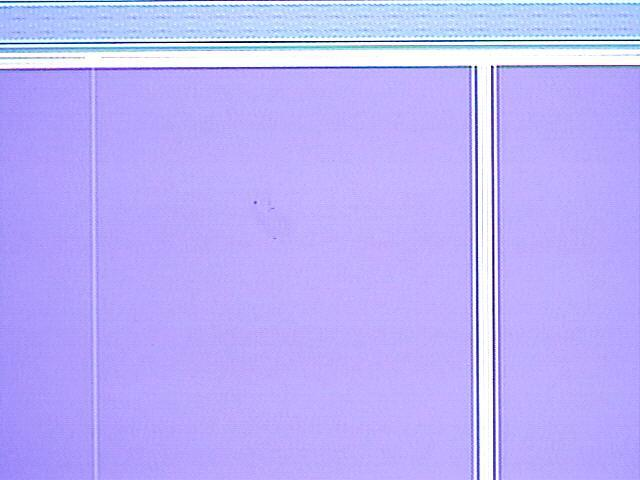PIQ PARTICLE: (239, 183, 296, 254)
